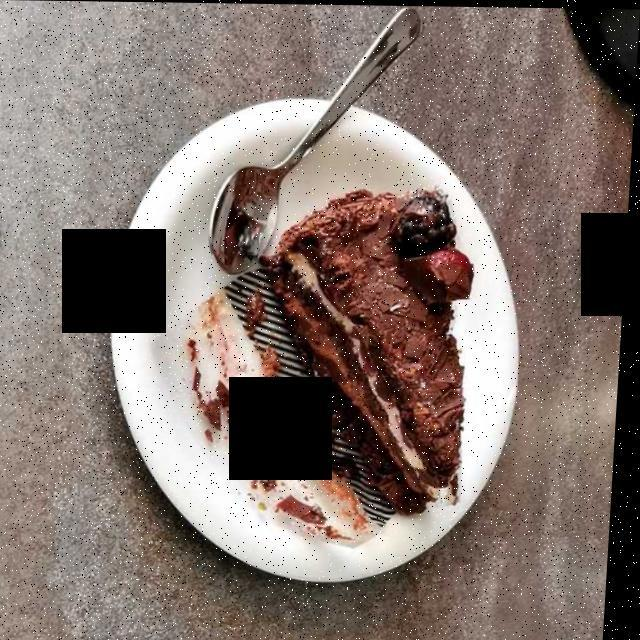cake: (147, 181, 474, 564)
